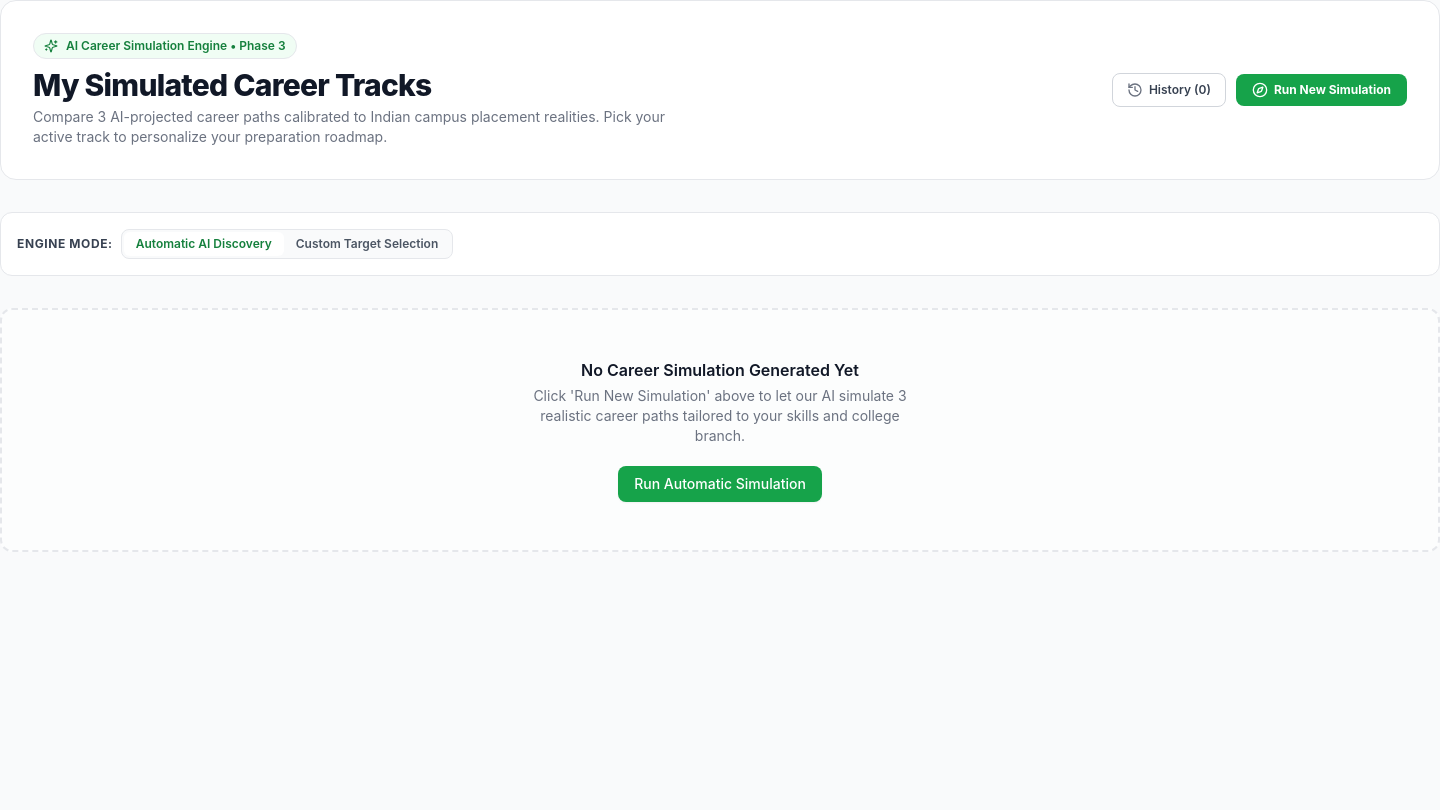
Test: MyPaths Component › toggles to custom mode and displays path chips
Click the button "Custom Target Selection" at (367, 244), box [284, 232, 450, 256]
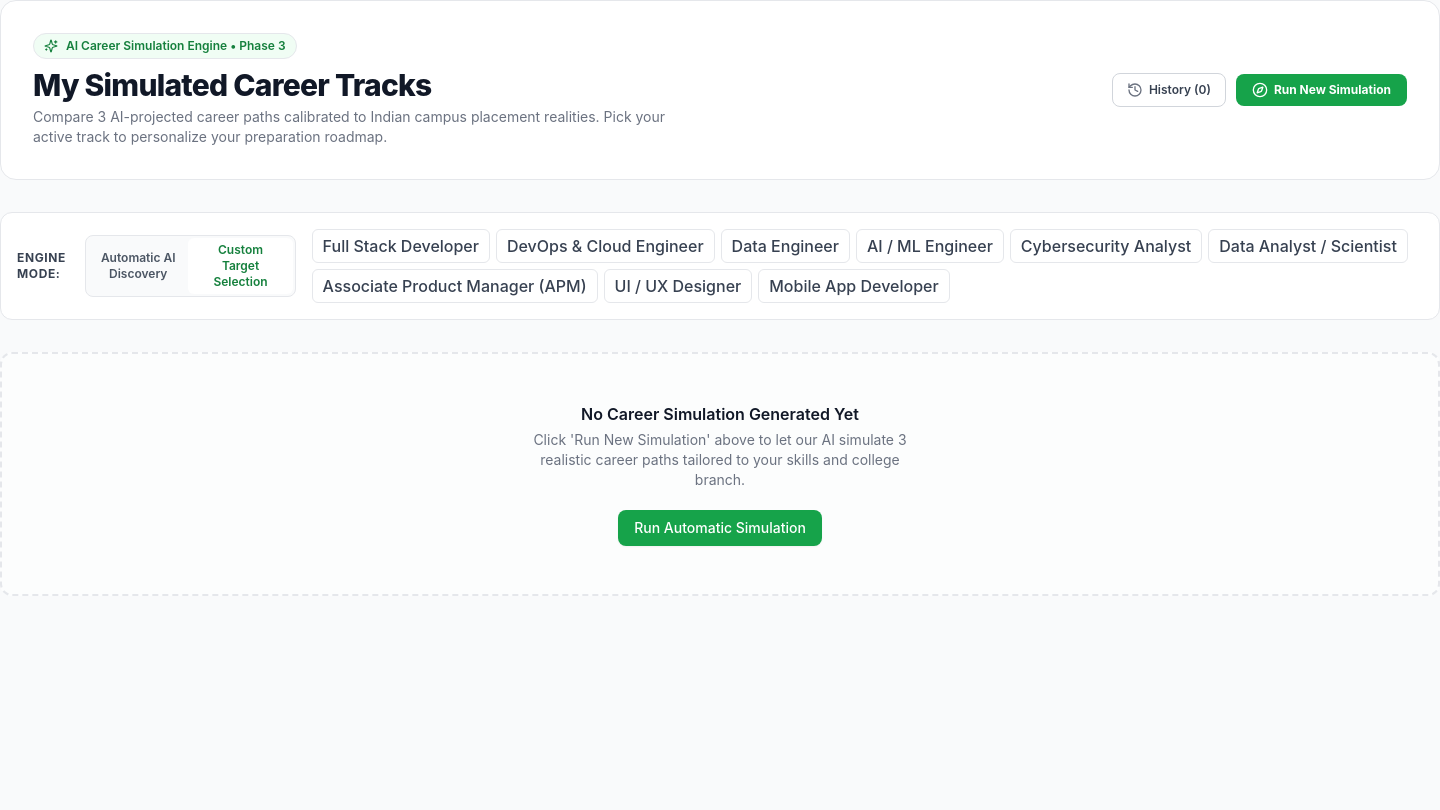
Result: the button "Full Stack Developer" is shown at [312, 229, 490, 263]
Result: the button "Data Engineer" is shown at [721, 229, 850, 263]
Result: the button "AI / ML Engineer" is shown at [856, 229, 1004, 263]
